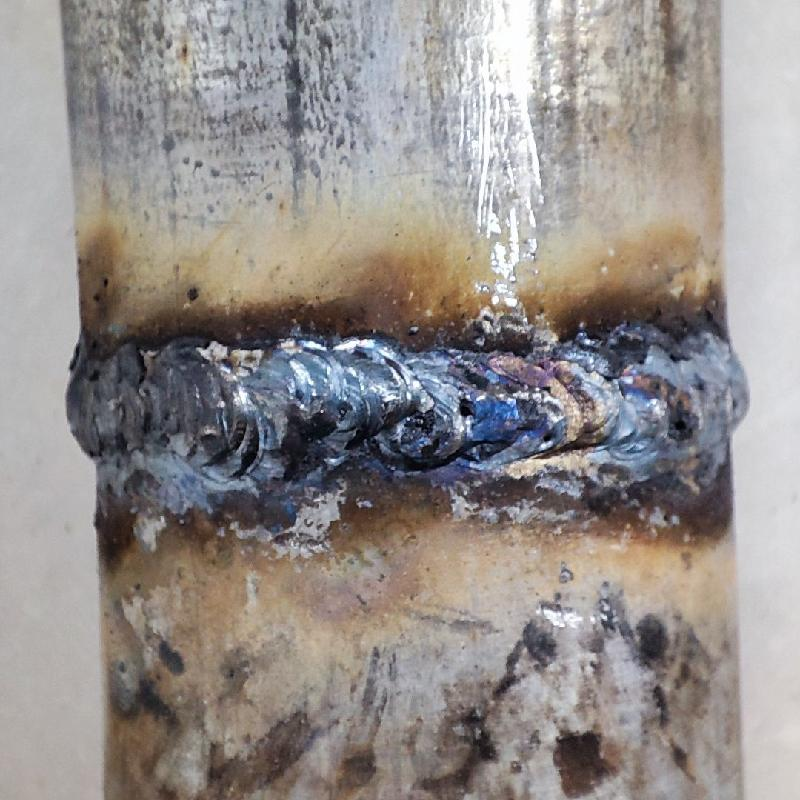Surface_pores: (667, 395, 707, 455), (453, 388, 487, 426)
good: (58, 312, 758, 497)
